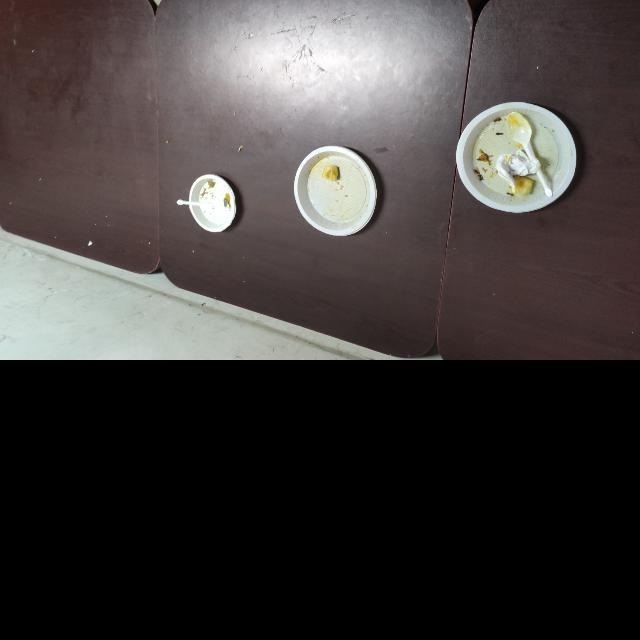kitchen paper: (495, 150, 541, 192)
